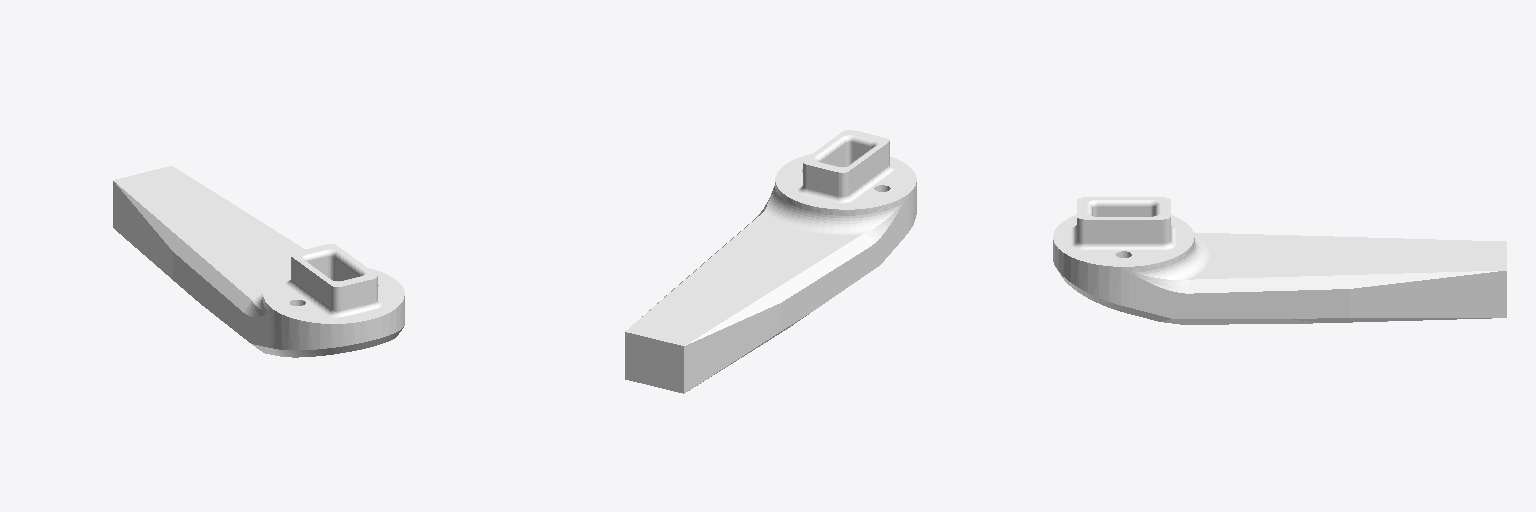
The model's file is solo12_lower_leg_H.obj.
3 views of the same model, side by side, from view 1: azimuth 30°, elevation 25°; view 2: azimuth 150°, elevation 25°; view 3: azimuth 270°, elevation 25° (orthographic).
Parts seen in each view (by area): view 1: lower_leg_H; view 2: lower_leg_H; view 3: lower_leg_H.
Part boxes in pixels (x1,y1,x2,y2): lower_leg_H: (113, 166, 404, 357); lower_leg_H: (625, 130, 916, 393); lower_leg_H: (1053, 197, 1506, 324).
Size of the model in its own units: 0.027 by 0.02 by 0.0865.